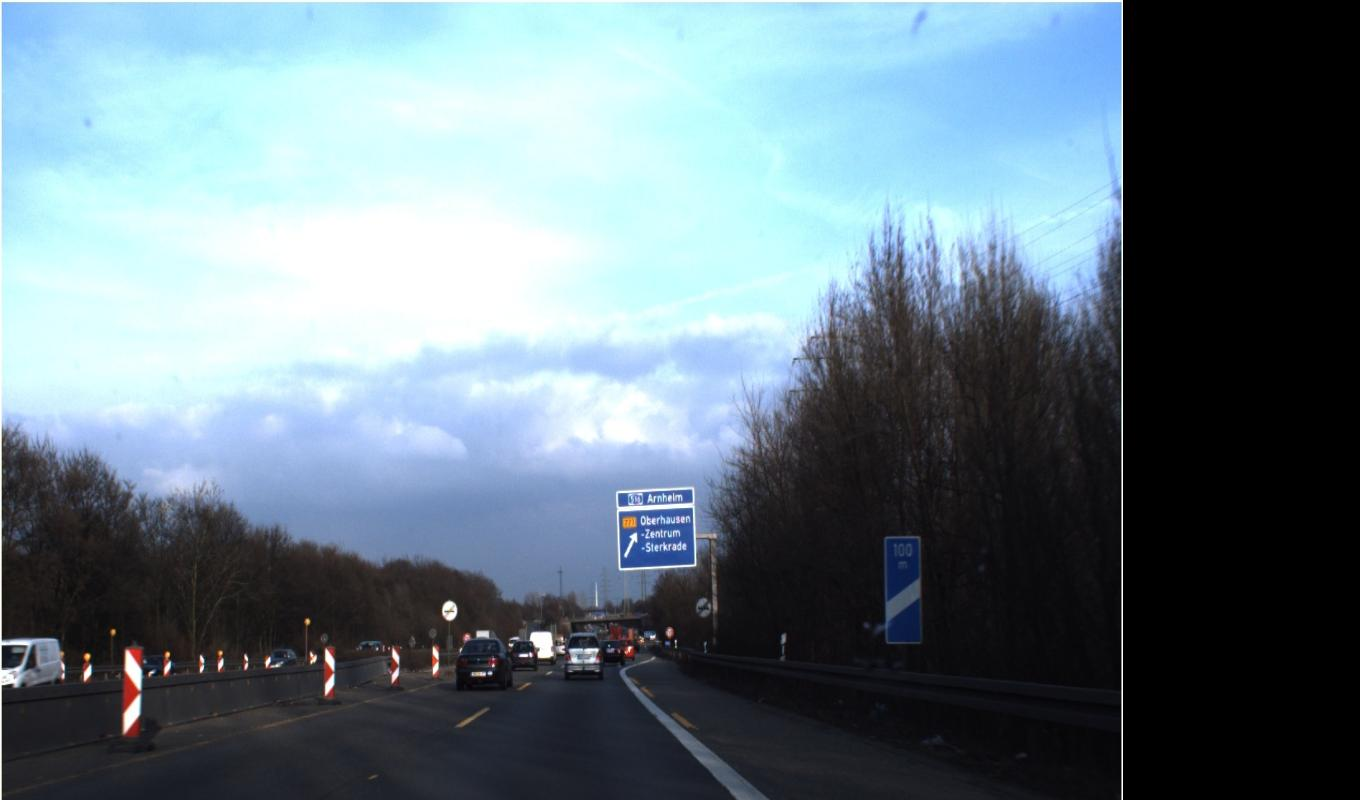restriction ends (overtaking): (440, 596, 712, 622)
